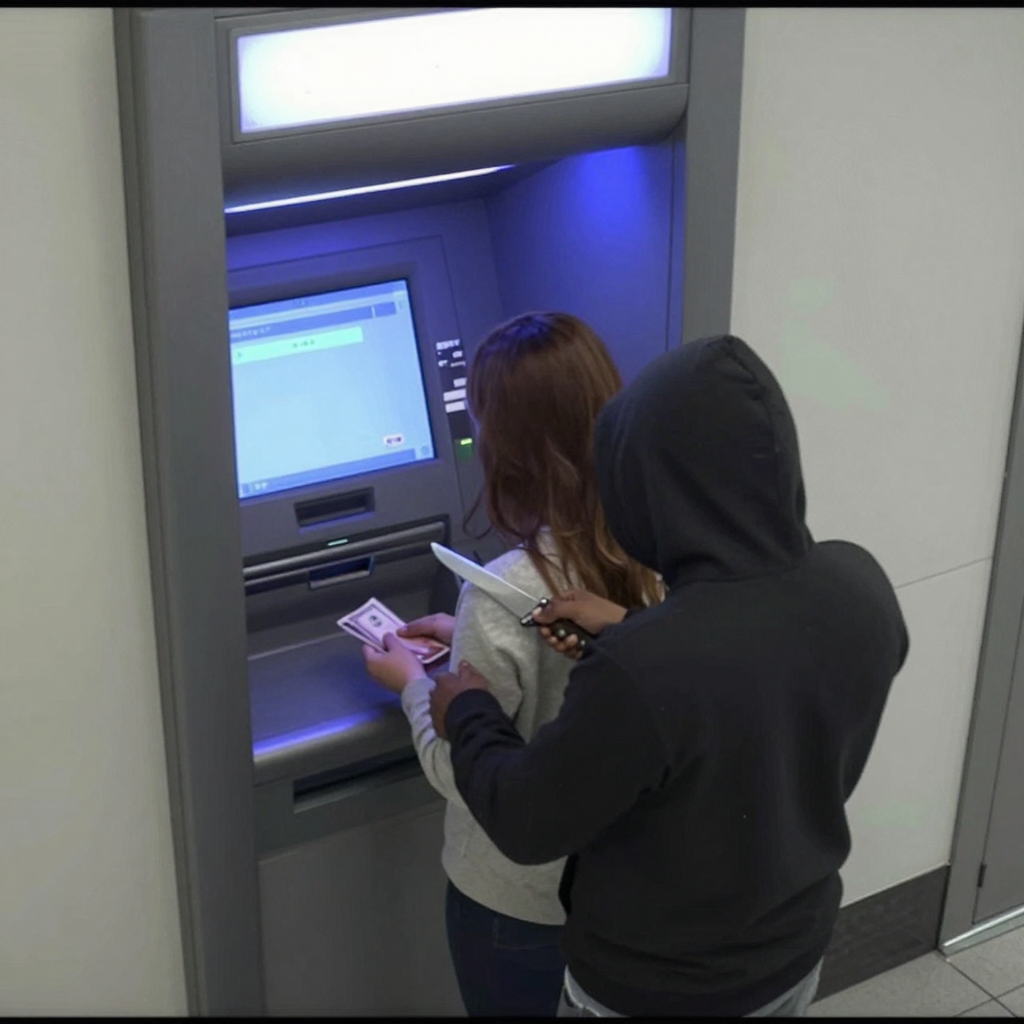Assault: (423, 537, 597, 651)
Robbery: (427, 333, 913, 1017), (360, 311, 666, 1016)
